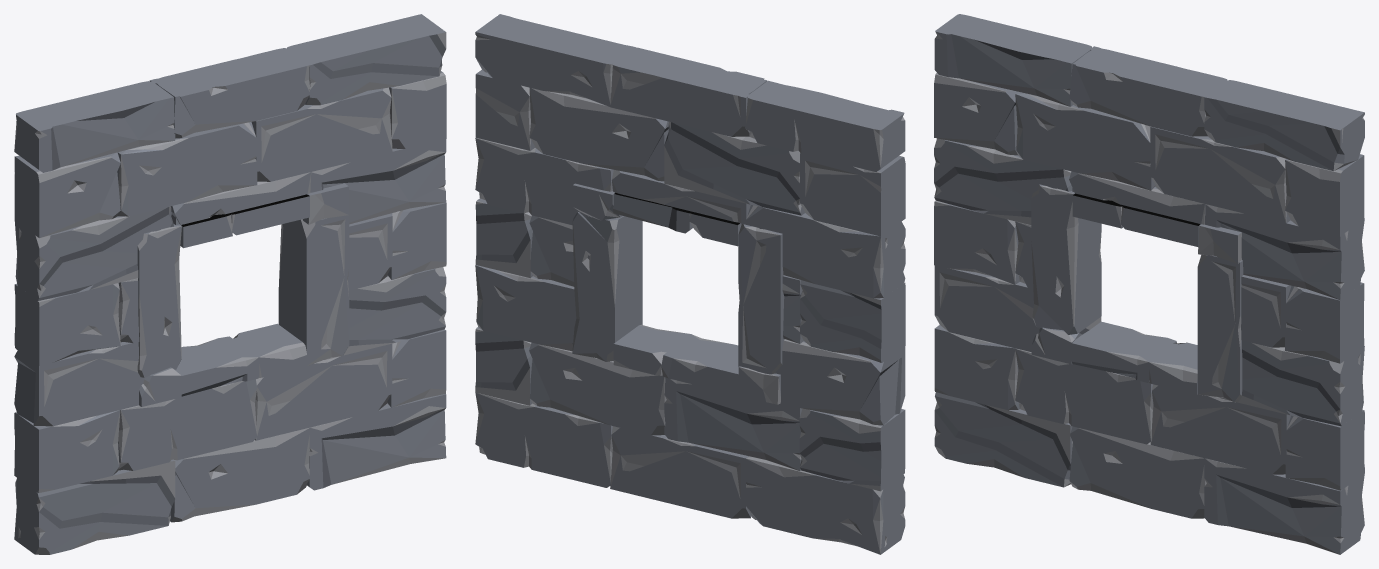
Rendered from mesh_stone_wall_window_small.fbx.
3 renders of one model, left to right at view 1: azimuth 30°, elevation 25°; view 2: azimuth 150°, elevation 25°; view 3: azimuth 330°, elevation 25°, orthographic.
Visible parts, largest first — view 1: mesh_stone_wall_window_small; view 2: mesh_stone_wall_window_small; view 3: mesh_stone_wall_window_small.
Boxes of the visible parts, x1=… form: mesh_stone_wall_window_small: x1=14, y1=14, x2=446, y2=554; mesh_stone_wall_window_small: x1=475, y1=14, x2=905, y2=554; mesh_stone_wall_window_small: x1=934, y1=14, x2=1364, y2=554.
Bounding box in the file's own units: 2 × 2 × 0.2566.
